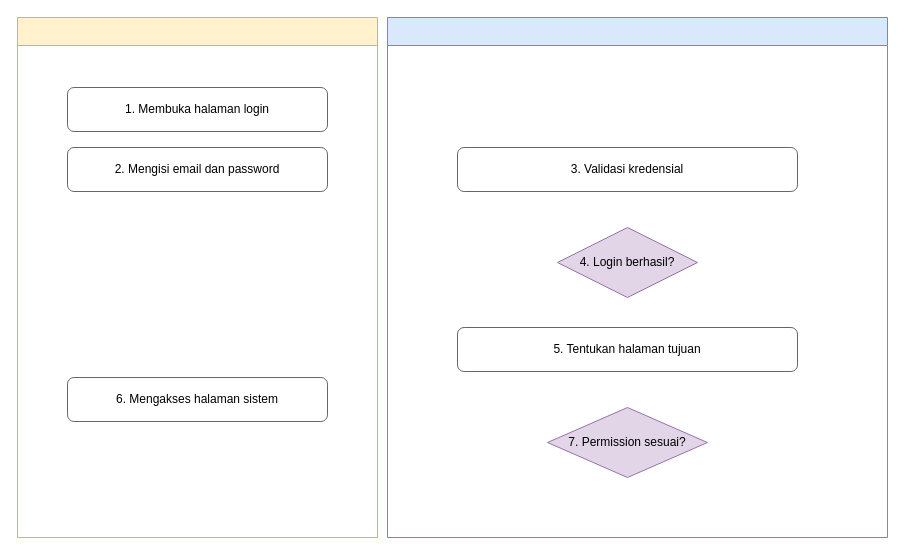
Some shapes in this 905 by 555 pixel diagram are drawn without their labels. Here are the shapes that lost their labels. From the top down, the box of each, then its label:
(16, 16, 378, 538): User
(386, 16, 888, 538): Sistem
